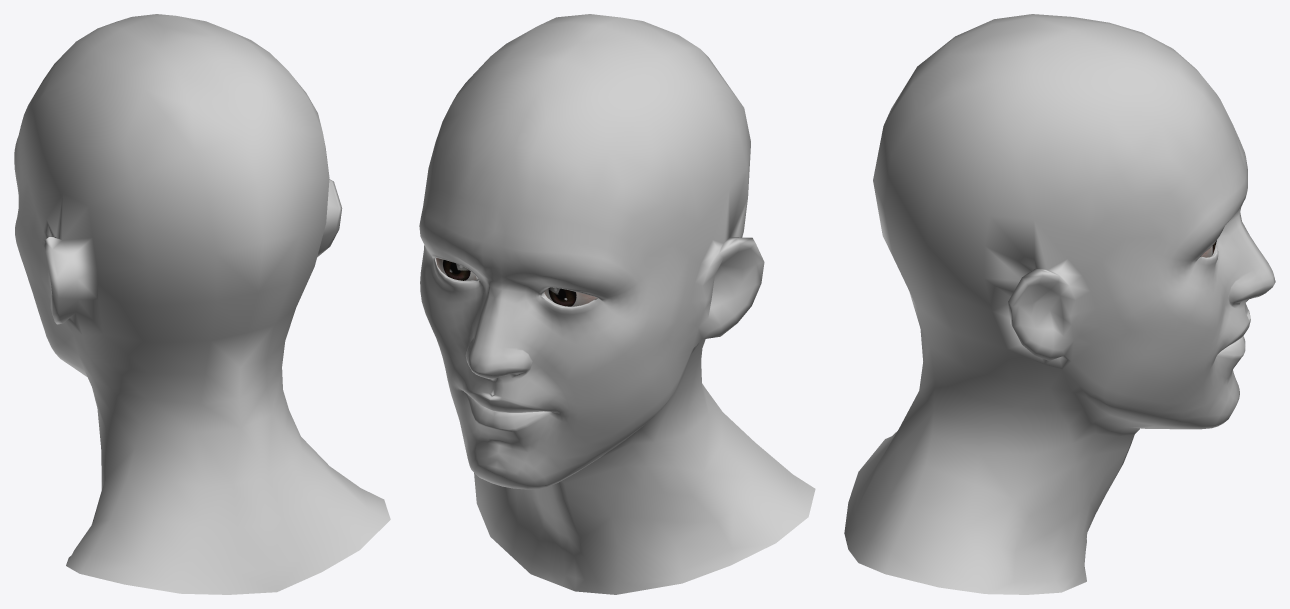
The model's file is Male_Face.fbx.
The picture shows the model from 3 angles, left to right: view 1: azimuth 30°, elevation 25°; view 2: azimuth 150°, elevation 25°; view 3: azimuth 270°, elevation 25°; orthographic projection. The views are drawn at different scales.
Visible parts, largest first — view 1: Male; view 2: Male; view 3: Male.
Part boxes in pixels (left/top/right/bottom): Male: left=14, top=14, right=390, bottom=594; Male: left=419, top=14, right=815, bottom=594; Male: left=844, top=14, right=1275, bottom=594.
Size of the model in its own units: 19.15 by 31.25 by 22.59.
